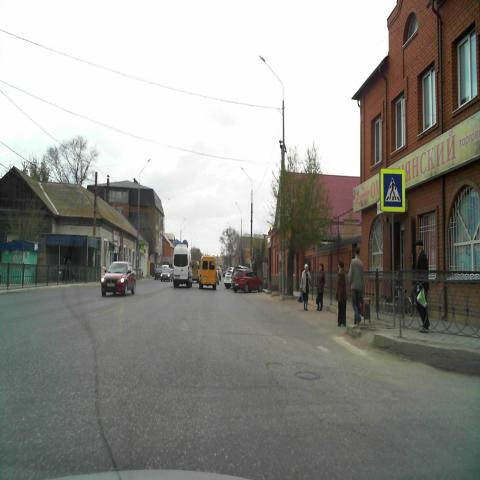5_19_1: (381, 169, 405, 210)
